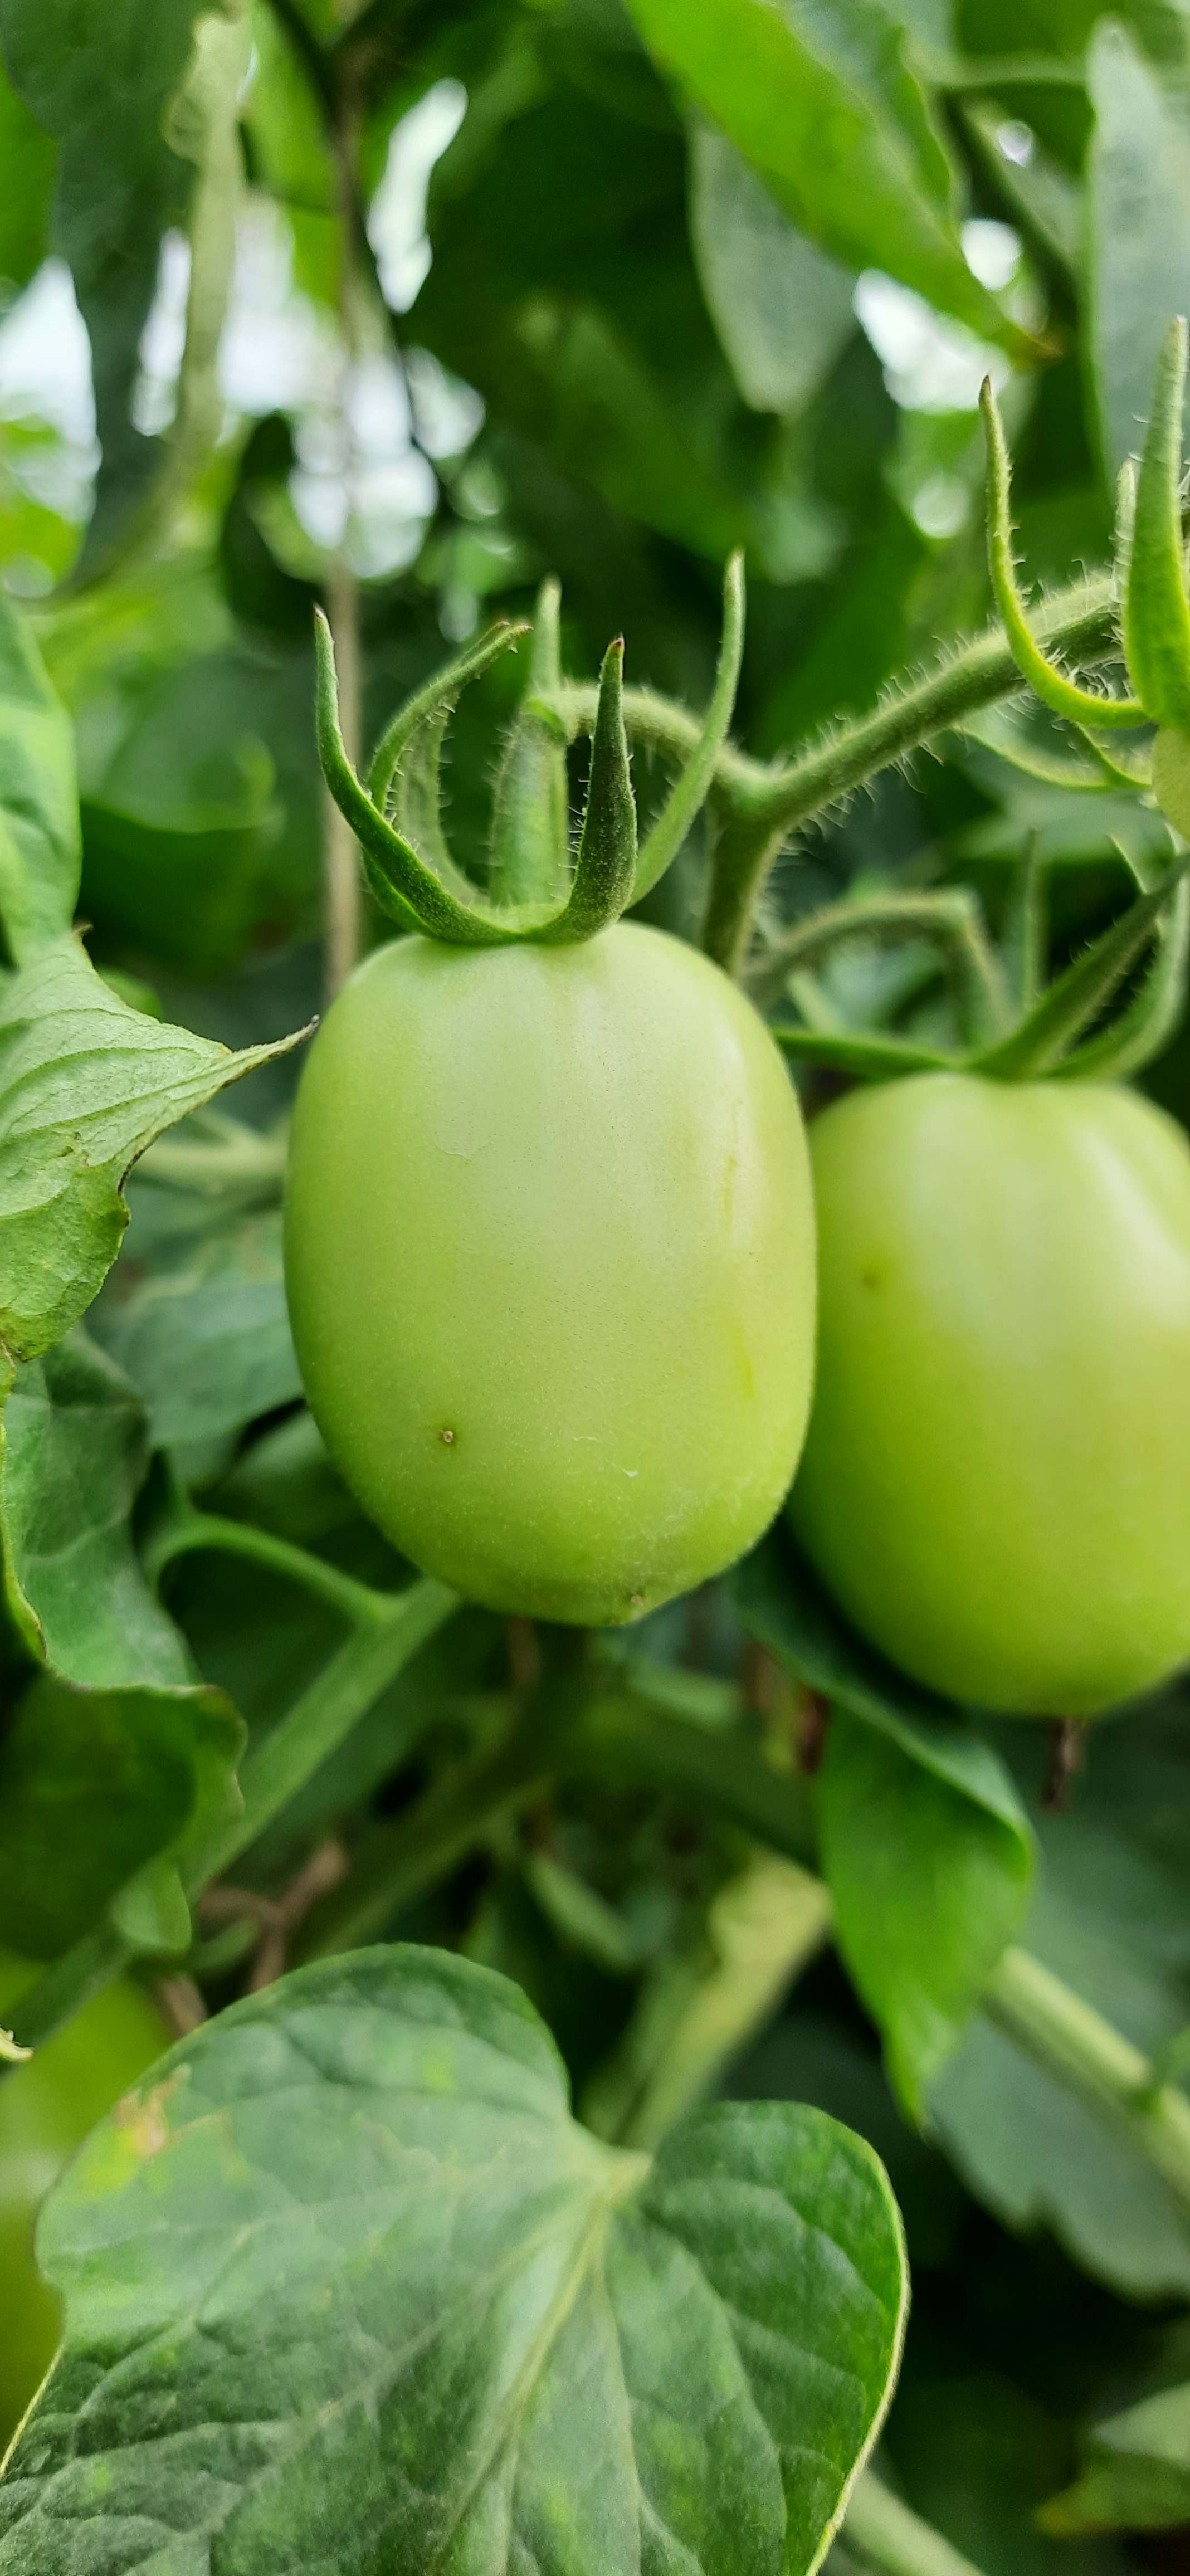raw_tomato: (260, 839, 855, 1664)
